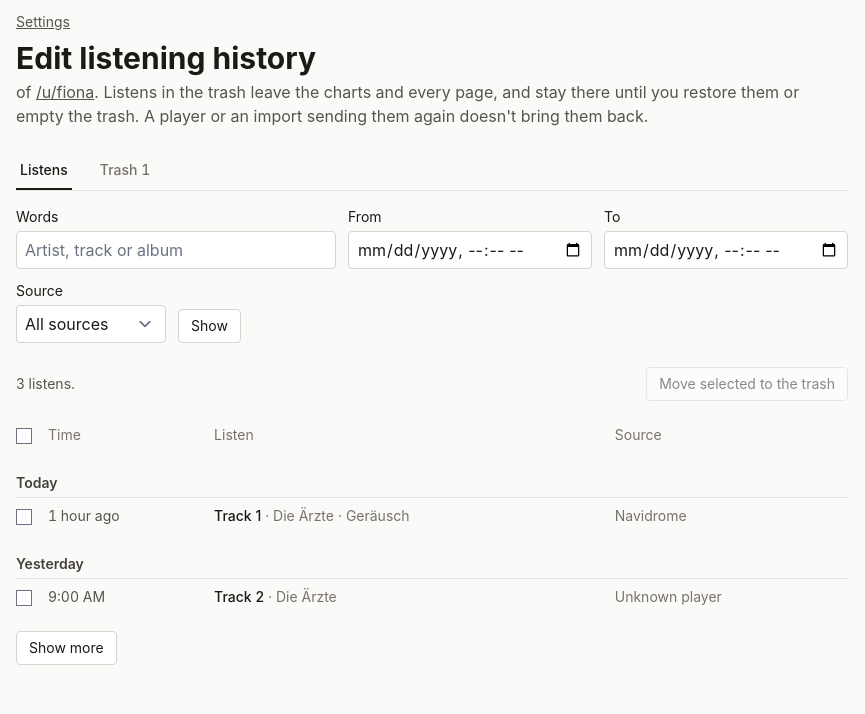
Test: listening history › shows errors
Click the button "Show more" at (66, 648), box 16,631 -> 117,665
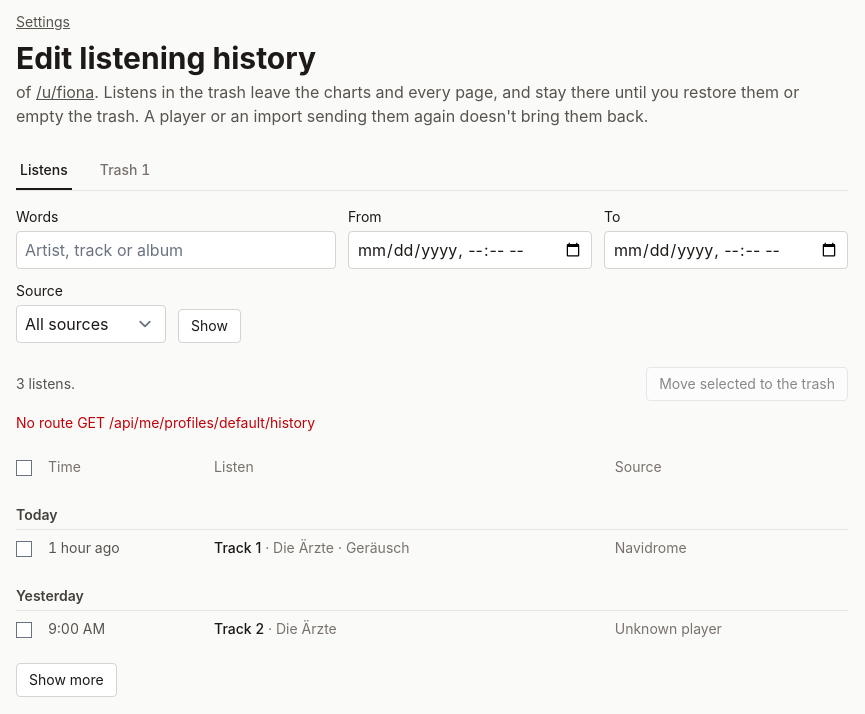
Check: the message shows "No route", box 16,414 -> 315,431
Click the checkbox named "Track 1" at (24, 549), box 16,541 -> 32,557
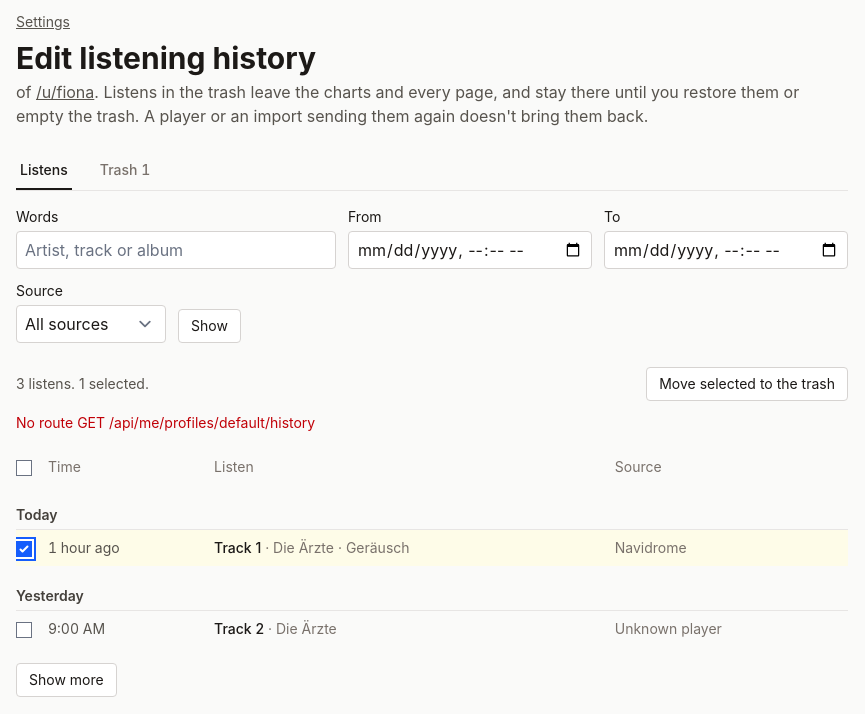
Click the button "Move selected to the trash" at (747, 384), box 646,367 -> 848,401
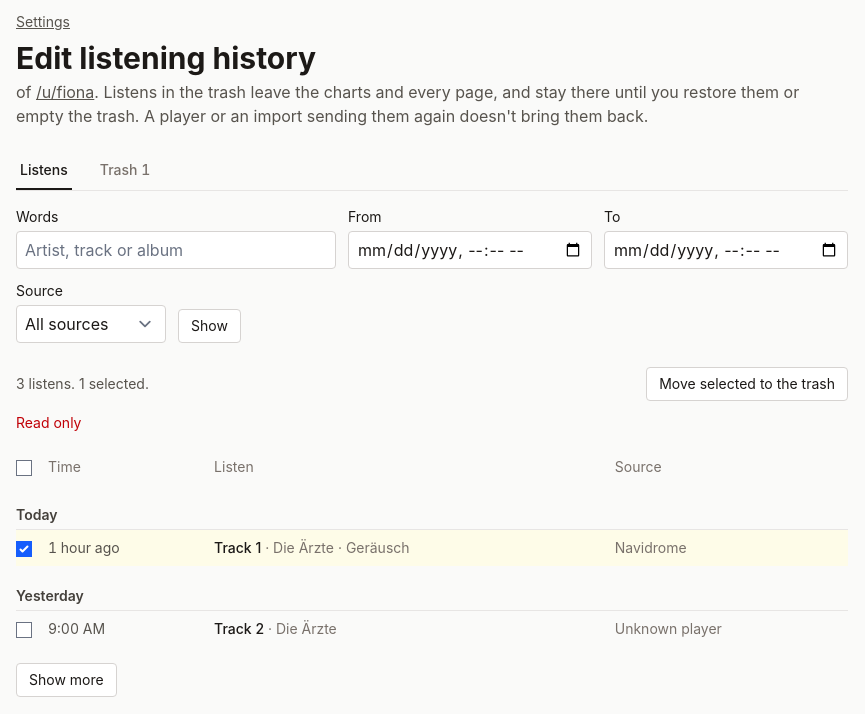
Check: the message reads "Read only", box 16,414 -> 82,431
